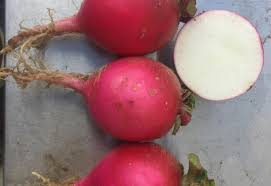raddish: (3, 56, 206, 148), (1, 6, 195, 55), (68, 142, 206, 186)
